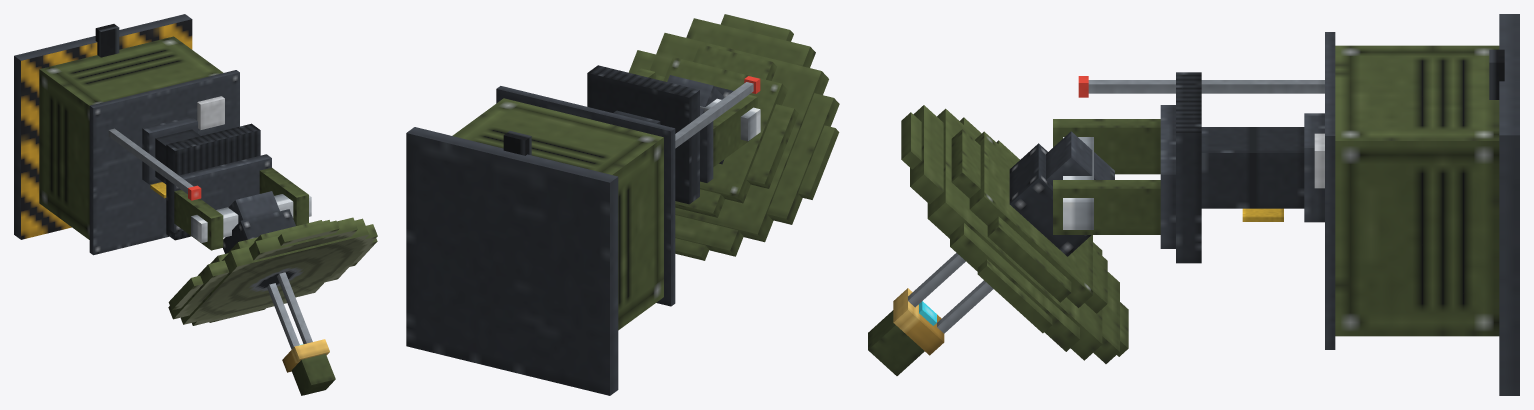
Rendered from satellite_dish.obj.
3 views of the same model, side by side, from view 1: azimuth 30°, elevation 25°; view 2: azimuth 150°, elevation 25°; view 3: azimuth 270°, elevation 25° (orthographic). The views are drawn at different scales.
Visible parts, largest first — view 1: satellite_dish_Cabinet, satellite_dish_Cabinet_lid, satellite_dish_Base_plate, satellite_dish_Dish, satellite_dish_Turntable, satellite_dish_Yoke_base, satellite_dish_Dish_tall, satellite_dish_Dish_wide, satellite_dish_Yoke_arm_0, satellite_dish_Hub, satellite_dish_Yoke_arm_1, satellite_dish_LNB (+13 smaller); view 2: satellite_dish_Base_plate, satellite_dish_Cabinet, satellite_dish_Dish, satellite_dish_Turntable, satellite_dish_Shell, satellite_dish_Dish_tall, satellite_dish_Cabinet_lid, satellite_dish_Dish_wide, satellite_dish_Shell_v, satellite_dish_Shell_h, satellite_dish_Yoke_arm_0, satellite_dish_Dish_tall_2 (+6 smaller); view 3: satellite_dish_Cabinet, satellite_dish_Mast, satellite_dish_Base_plate, satellite_dish_Shell, satellite_dish_Turntable, satellite_dish_Dish, satellite_dish_Yoke_arm_1, satellite_dish_Yoke_arm_0, satellite_dish_Dish_tall, satellite_dish_Cabinet_lid, satellite_dish_Hub, satellite_dish_Dish_wide (+16 smaller).
Part boxes in pixels (<box>): satellite_dish_Cabinet: <box>39,36,223,239</box>; satellite_dish_Cabinet_lid: <box>89,70,239,255</box>; satellite_dish_Base_plate: <box>14,14,192,239</box>; satellite_dish_Dish: <box>180,218,368,324</box>; satellite_dish_Turntable: <box>166,123,260,240</box>; satellite_dish_Yoke_base: <box>169,154,271,232</box>; satellite_dish_Dish_tall: <box>192,217,357,325</box>; satellite_dish_Dish_wide: <box>168,224,377,319</box>; satellite_dish_Yoke_arm_0: <box>174,190,223,250</box>; satellite_dish_Hub: <box>223,209,295,253</box>; satellite_dish_Yoke_arm_1: <box>259,167,308,225</box>; satellite_dish_LNB: <box>291,354,335,395</box>; satellite_dish_Base_plate: <box>406,127,618,395</box>; satellite_dish_Cabinet: <box>452,98,663,330</box>; satellite_dish_Dish: <box>650,33,828,242</box>; satellite_dish_Turntable: <box>587,65,699,204</box>; satellite_dish_Shell: <box>663,57,787,203</box>; satellite_dish_Dish_tall: <box>675,18,815,256</box>; satellite_dish_Cabinet_lid: <box>496,86,675,306</box>; satellite_dish_Dish_wide: <box>629,50,839,224</box>; satellite_dish_Shell_v: <box>675,44,776,217</box>; satellite_dish_Shell_h: <box>655,75,798,188</box>; satellite_dish_Yoke_arm_0: <box>713,95,757,166</box>; satellite_dish_Dish_tall_2: <box>675,14,793,260</box>; satellite_dish_Cabinet: <box>1335,45,1499,336</box>; satellite_dish_Mast: <box>1201,127,1304,208</box>; satellite_dish_Base_plate: <box>1499,14,1519,395</box>; satellite_dish_Shell: <box>969,131,1092,307</box>; satellite_dish_Turntable: <box>1176,72,1201,263</box>; satellite_dish_Dish: <box>927,108,1102,360</box>; satellite_dish_Yoke_arm_1: <box>1053,180,1160,234</box>; satellite_dish_Yoke_arm_0: <box>1053,119,1160,174</box>; satellite_dish_Dish_tall: <box>910,105,1119,363</box>; satellite_dish_Cabinet_lid: <box>1325,32,1335,349</box>; satellite_dish_Hub: <box>1009,143,1091,256</box>; satellite_dish_Dish_wide: <box>950,117,1079,351</box>.
Size of the model in its own units: 0.9375 by 1.05 by 1.98.
